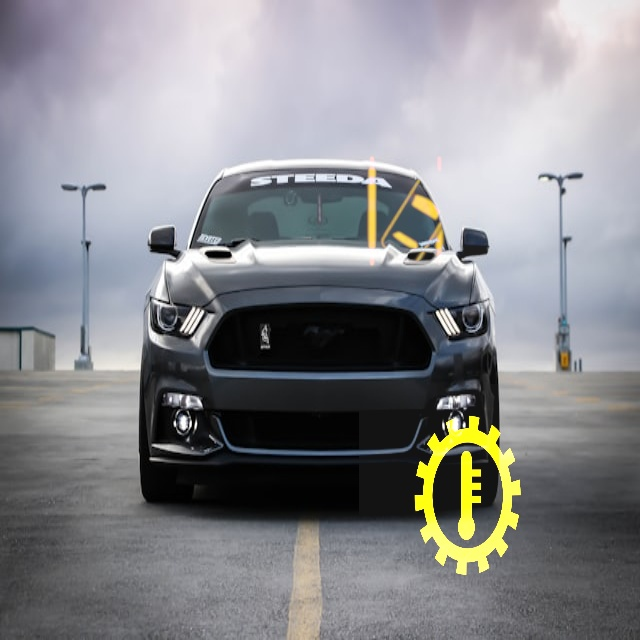symbol: (359, 384, 575, 600), (330, 131, 496, 297)
